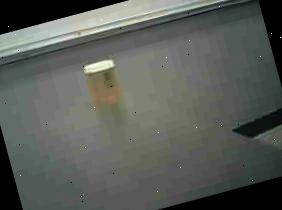Bottle B: (74, 50, 134, 116)
